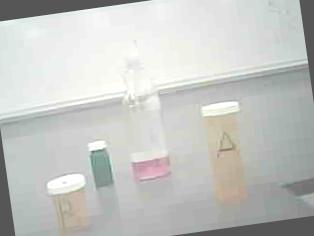Bottle A: (198, 98, 254, 211)
Bottle B: (42, 169, 95, 236)
Bottle C: (85, 136, 123, 191)
hazard: (112, 28, 179, 186)
